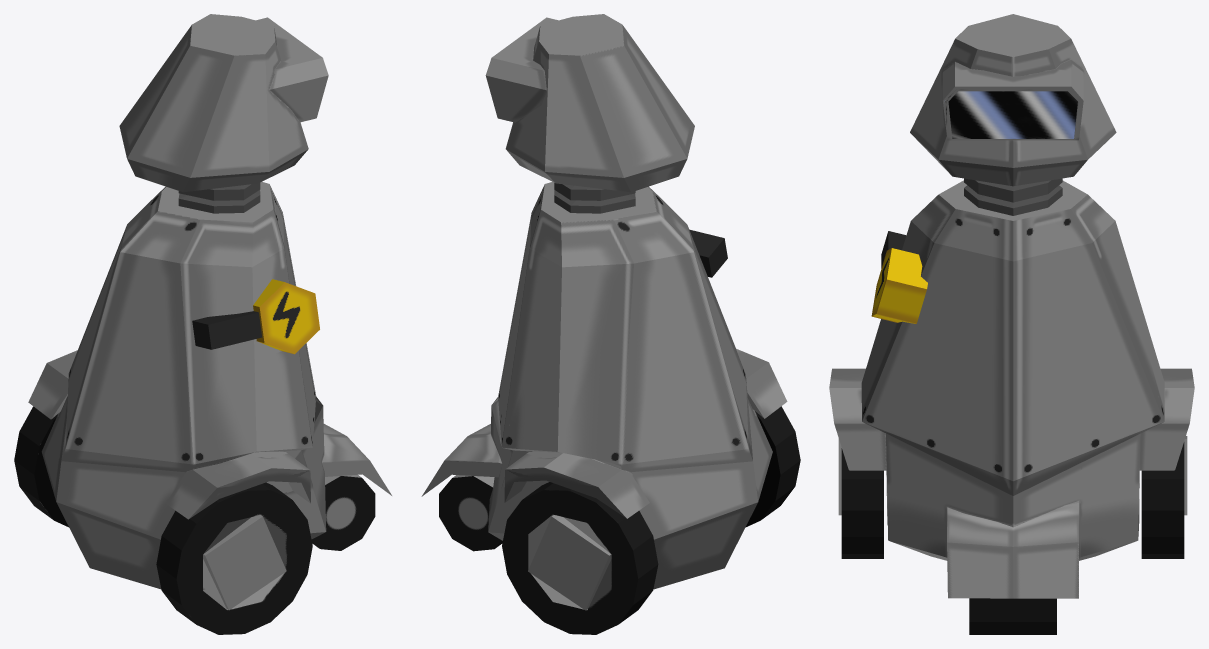
Rendered from wholerobot.fbx.
3 renders of one model, left to right at view 1: azimuth 30°, elevation 25°; view 2: azimuth 150°, elevation 25°; view 3: azimuth 270°, elevation 25°, orthographic. The views are drawn at different scales.
Visible parts, largest first — view 1: Cylinder; view 2: Cylinder; view 3: Cylinder.
Part boxes in pixels (left/top/right/bottom): Cylinder: left=14, top=14, right=391, bottom=634; Cylinder: left=421, top=14, right=800, bottom=634; Cylinder: left=829, top=14, right=1194, bottom=634.
Bounding box in the file's own units: 229 × 373 × 224.
